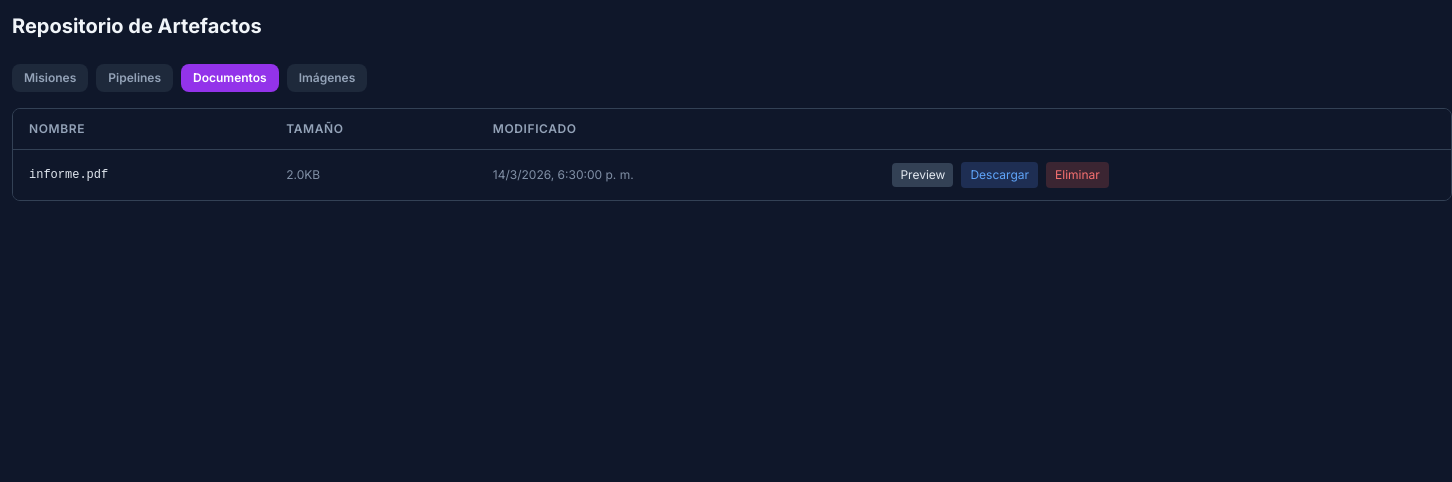
Test: AdminRepository -- la pestaña "Misiones" monta el panel del Ejecutor (reusado sin cirugía) › activar "Misiones" muestra el panel del Ejecutor, no la carpeta de archivos
Expected: the text "informe.pdf" is shown, [13,150,270,200]
Click the button "Misiones": (50, 78) [12,64,88,92]
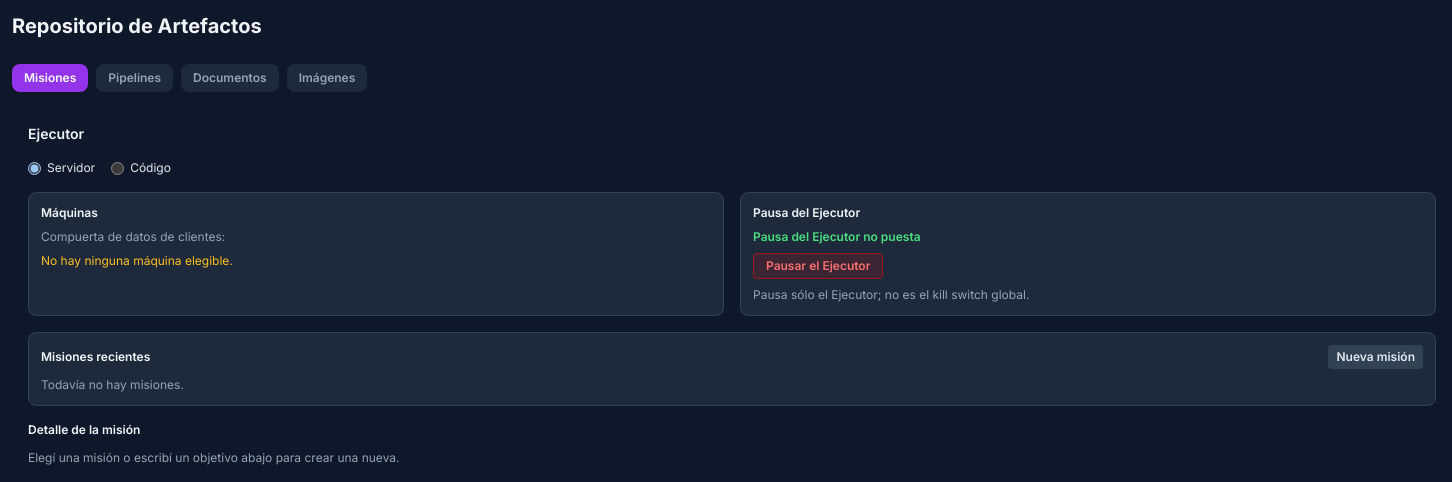
Expected: the heading "Ejecutor" is shown, [28,125,84,142]
